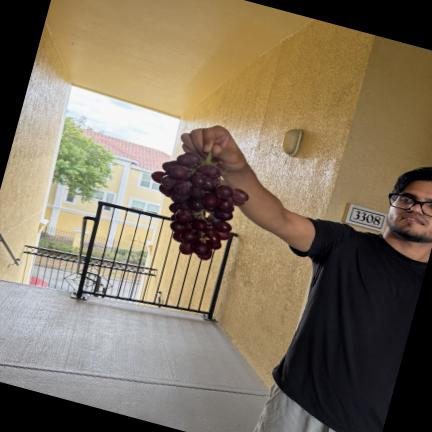grape_cluster: (150, 150, 248, 260)
